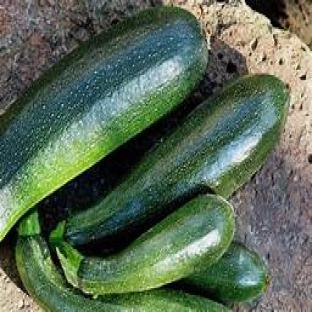Zucchini: (0, 7, 207, 240), (65, 76, 288, 245), (16, 215, 230, 311), (57, 195, 233, 294), (178, 243, 269, 301)
